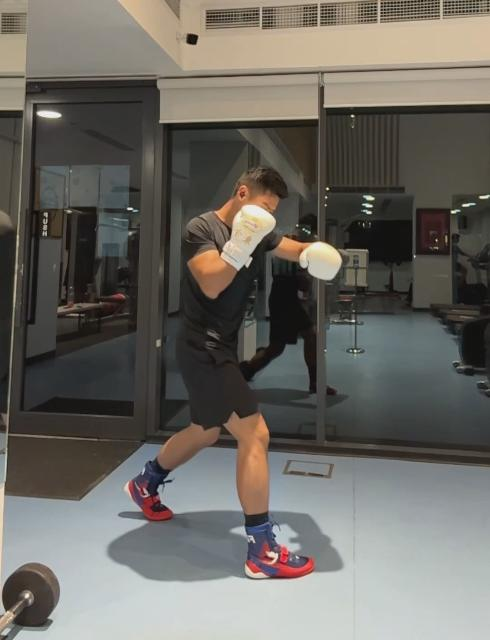punch: (126, 162, 344, 582)
